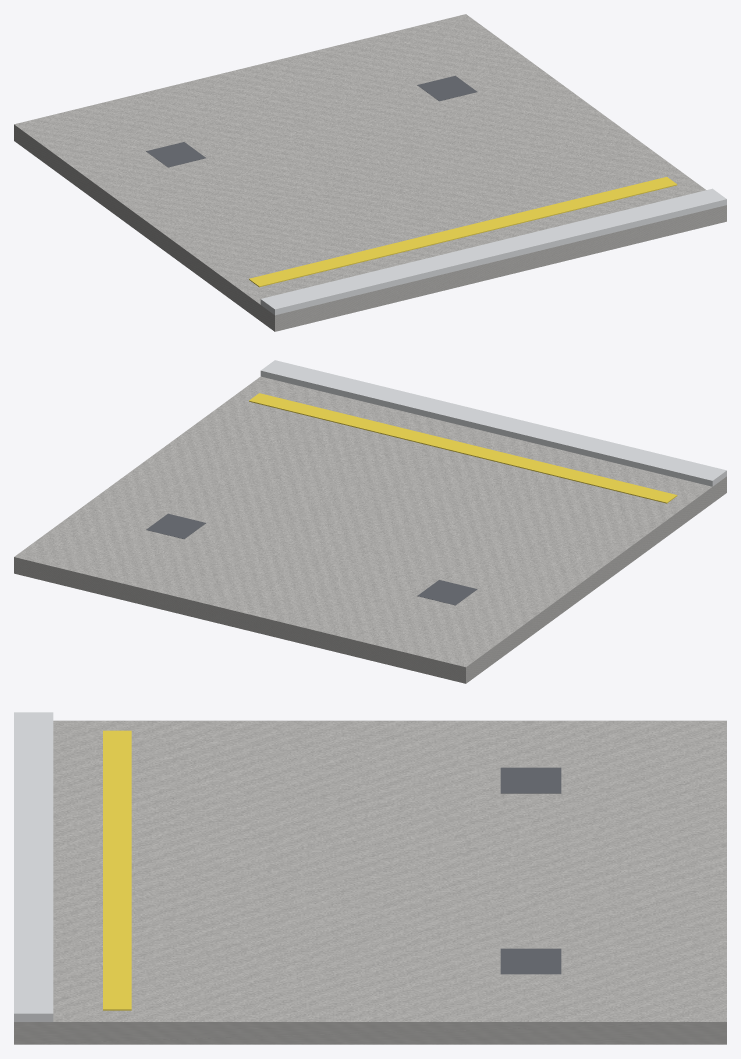
File: shipyard-and-dry-dock-shipyard-and-dry-dock-quay-edge--4110586f__37920.glb
3 views of the same model, one above another, from view 1: azimuth 30°, elevation 25°; view 2: azimuth 150°, elevation 25°; view 3: azimuth 270°, elevation 25° (orthographic). The views are drawn at different scales.
Visible parts, largest first — view 1: shipyard-and-dry-dock-quay-edge-slab; view 2: shipyard-and-dry-dock-quay-edge-slab; view 3: shipyard-and-dry-dock-quay-edge-slab.
Part boxes in pixels (x1,y1,x2,y2): shipyard-and-dry-dock-quay-edge-slab: (14,14,726,331); shipyard-and-dry-dock-quay-edge-slab: (14,360,726,683); shipyard-and-dry-dock-quay-edge-slab: (14,712,726,1044).
Bounding box in the file's own units: 4 × 0.19 × 4.
Materials: 4 (1 with a texture image).
